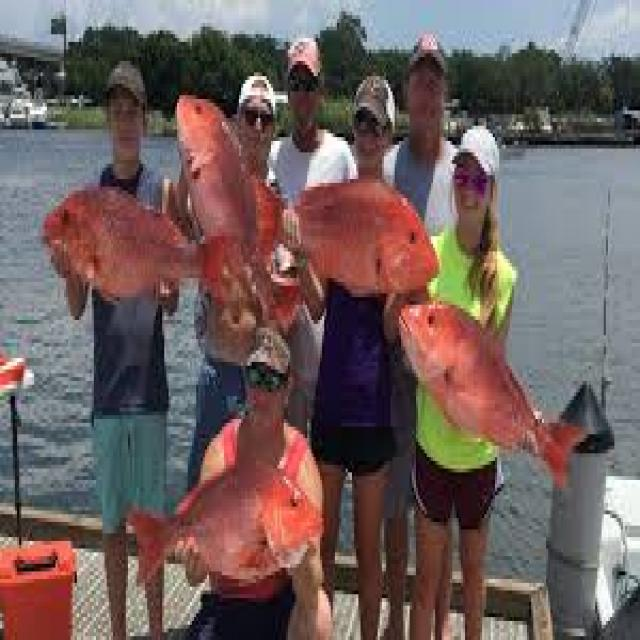northern-red-snapper: (394, 270, 591, 492), (115, 419, 326, 582), (38, 169, 239, 308), (154, 72, 278, 267), (284, 164, 444, 306)
